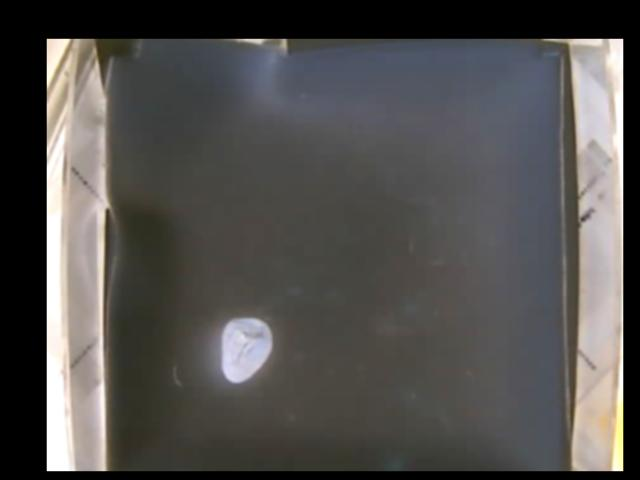Pebble: (221, 316, 271, 384)
